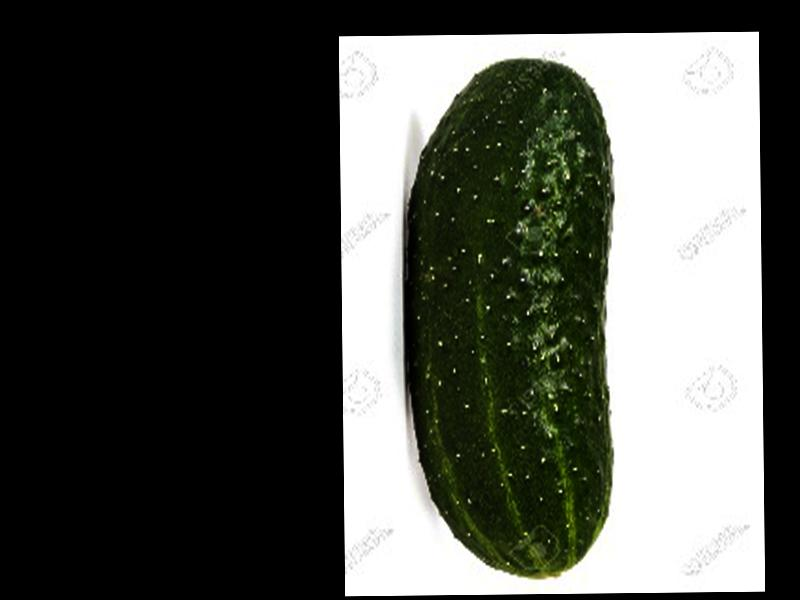Cucumber: (403, 57, 612, 580)
